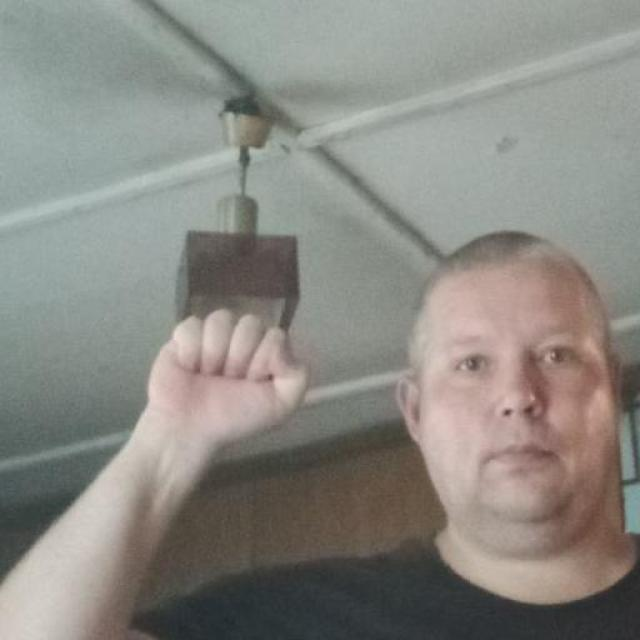hand: (144, 305, 310, 450)
